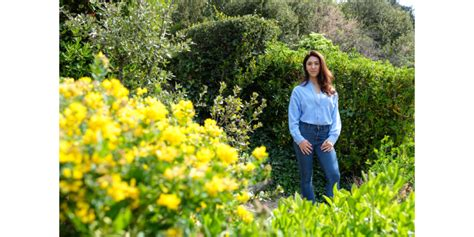femme: (272, 31, 350, 211)
